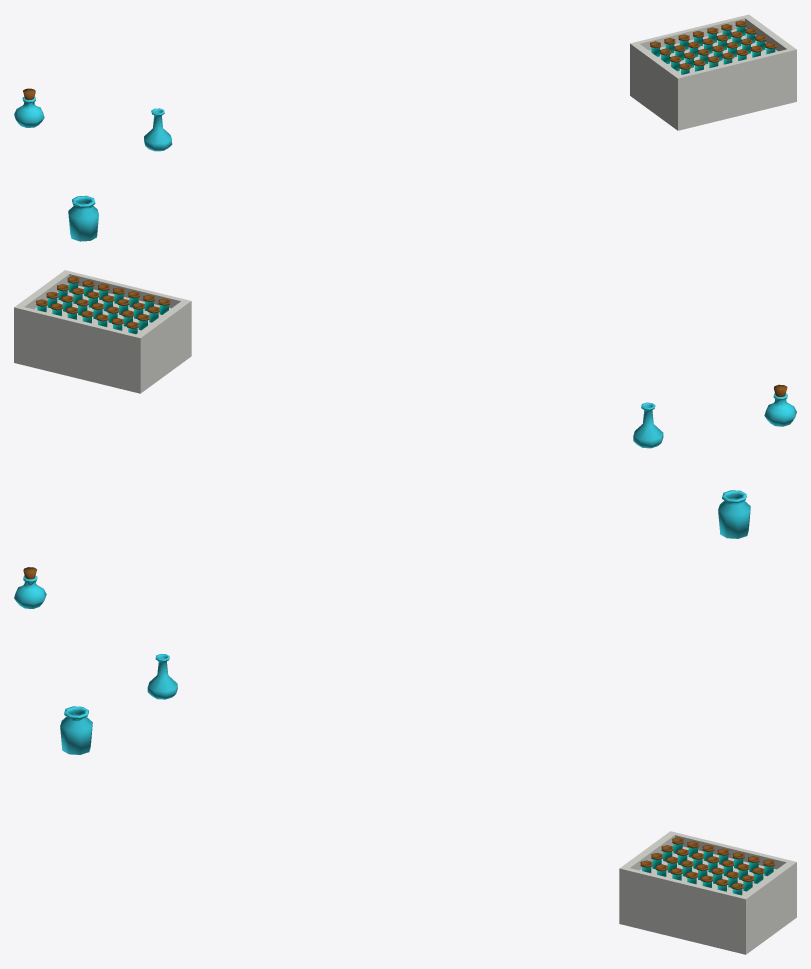
File: Potions2.fbx
3 views of the same model, one above another, from view 1: azimuth 30°, elevation 25°; view 2: azimuth 150°, elevation 25°; view 3: azimuth 330°, elevation 25° (orthographic). The views are drawn at different scales.
Parts seen in each view (by area): view 1: box_samples, samples, potion_1, potion_3, potion_2; view 2: box_samples, samples, potion_1, potion_3, potion_2; view 3: box_samples, samples, potion_1, potion_3, potion_2.
Part boxes in pixels (x1,y1,x2,y2): box_samples: [630, 14, 796, 130]; samples: [650, 20, 776, 74]; potion_1: [68, 195, 98, 241]; potion_3: [14, 88, 44, 127]; potion_2: [144, 108, 172, 151]; box_samples: [14, 270, 191, 393]; samples: [36, 276, 170, 334]; potion_1: [718, 490, 750, 538]; potion_3: [764, 384, 796, 426]; potion_2: [633, 402, 663, 448]; box_samples: [619, 831, 796, 954]; samples: [640, 837, 774, 895]; potion_1: [60, 706, 92, 754]; potion_3: [14, 567, 46, 608]; potion_2: [147, 654, 177, 699].
Size of the model in its own units: 1234 by 245 by 160.
